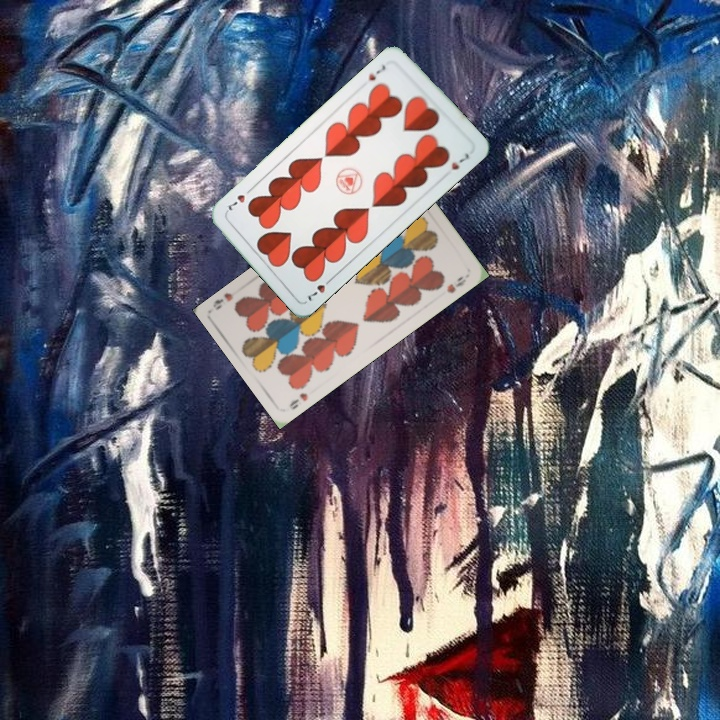H7: (302, 273, 336, 304), (364, 60, 389, 83)
H9: (285, 389, 310, 412)
